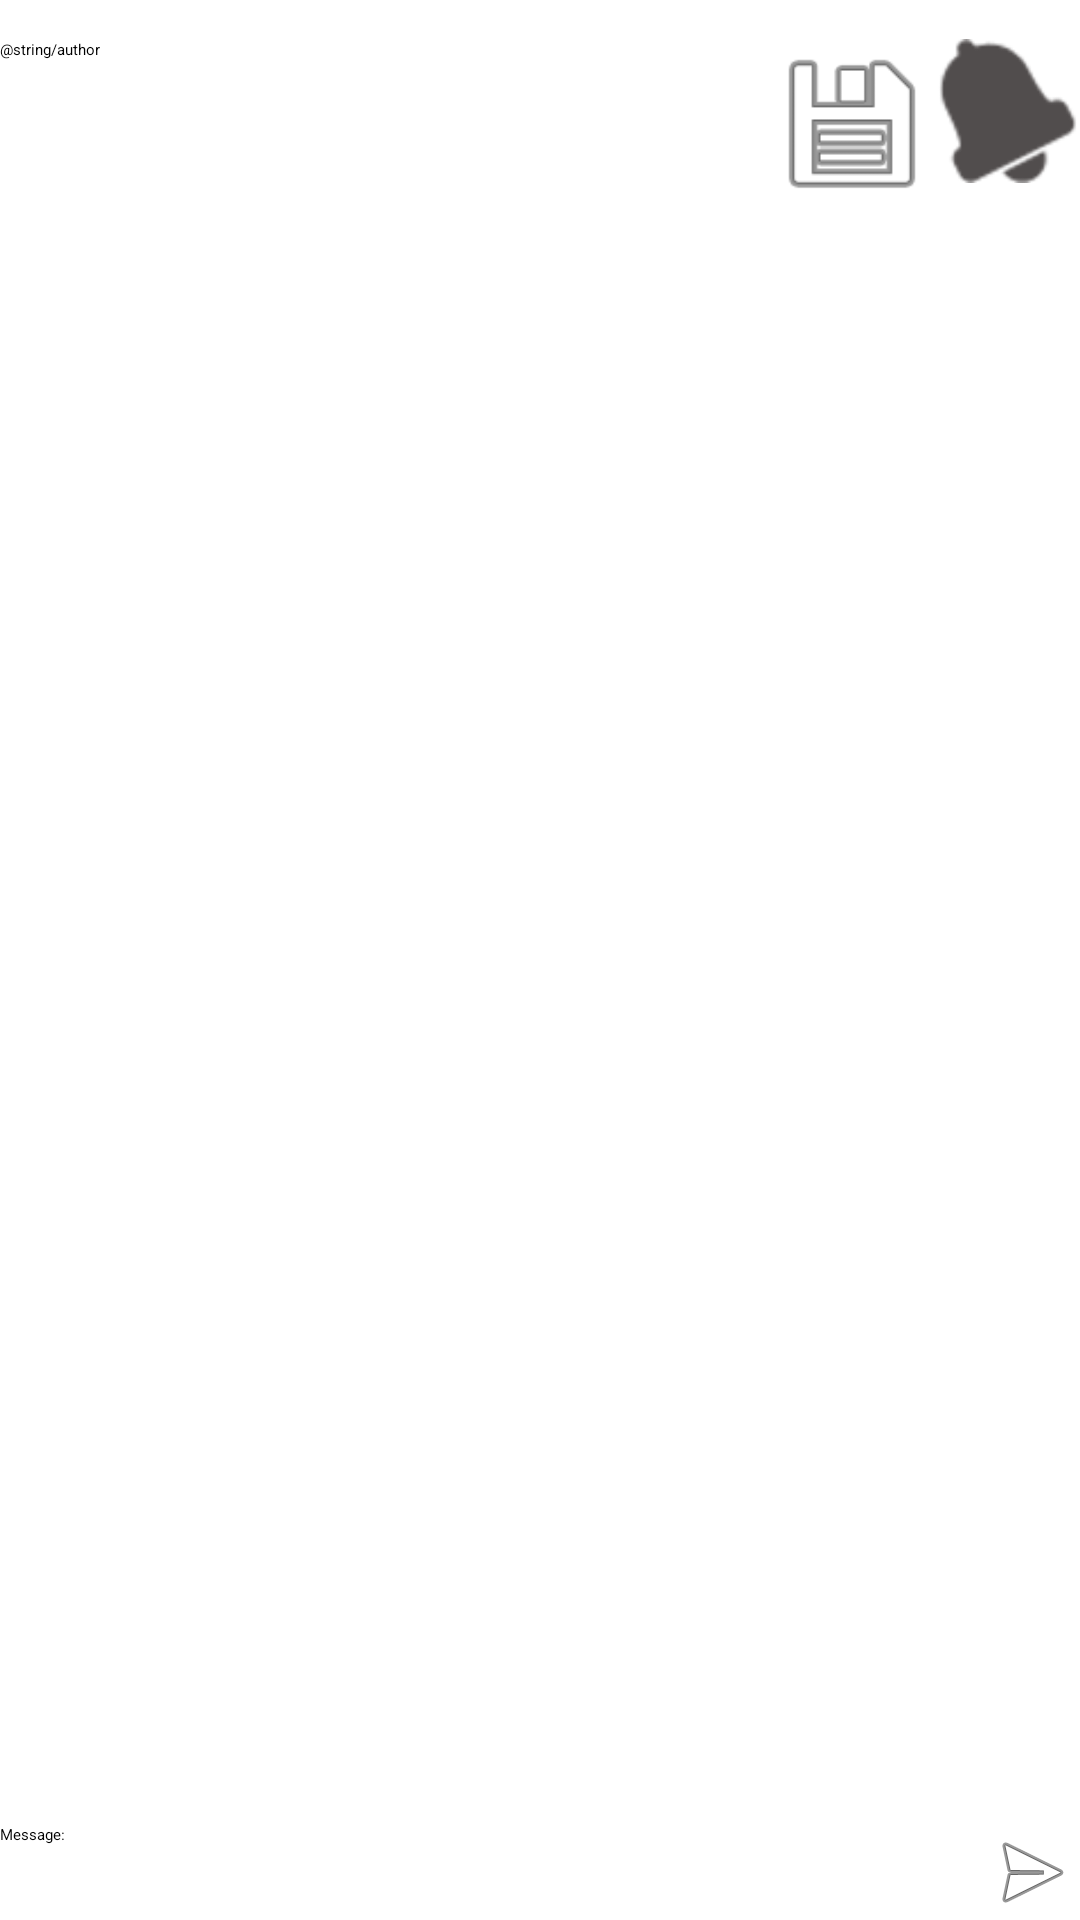

Icon bounding boxes for this 1080*1920 phone screenshot, format (x1, y1, x2, y2):
popup reminder: (940, 39, 1076, 183)
save: (789, 60, 915, 188)
send: (1002, 1842, 1064, 1903)
